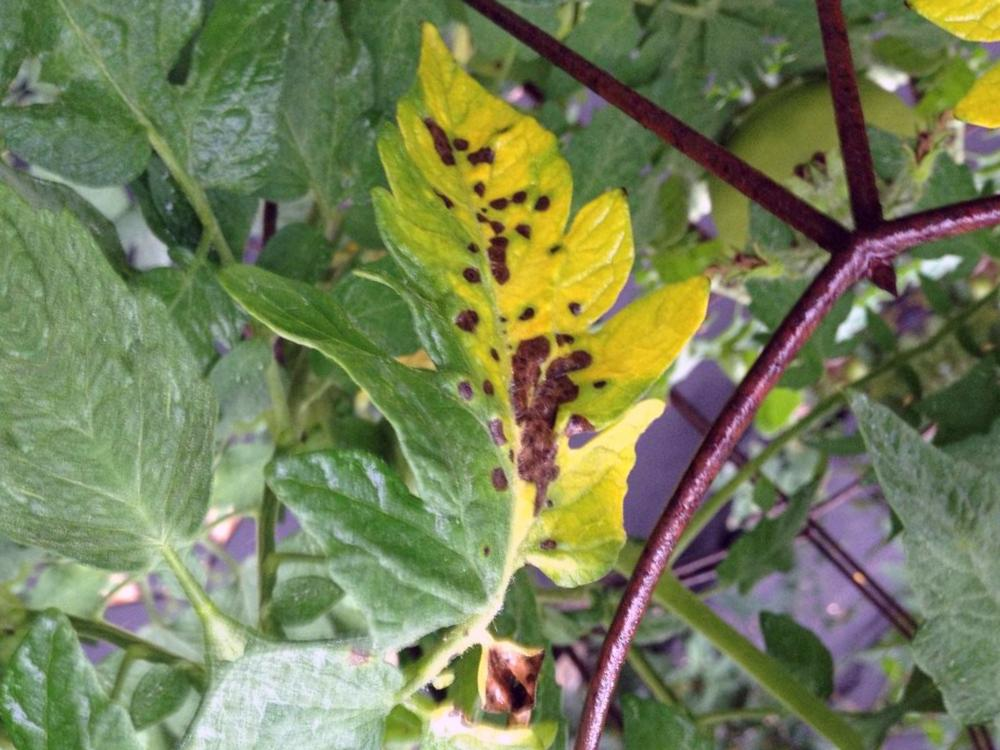Tomato leaf bacterial spot: (213, 0, 824, 639)
